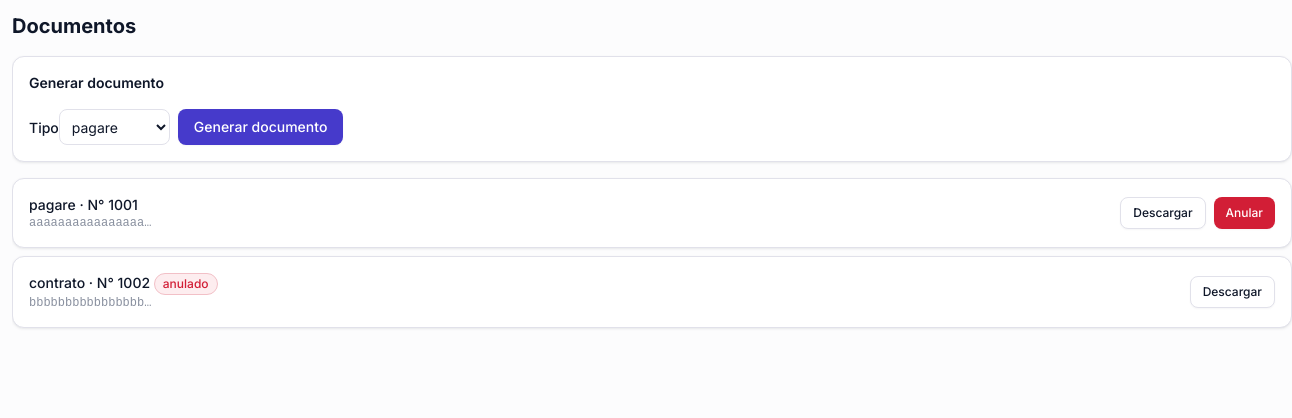
Test case: DocumentosPage › anular pide motivo y marca el documento
Expected: the text "pagare · N° 1001" is shown, x1=29 y1=195 x2=151 y2=215
Click the button "Anular". click: click(1244, 213)
box: x1=1214 y1=197 x2=1275 y2=229
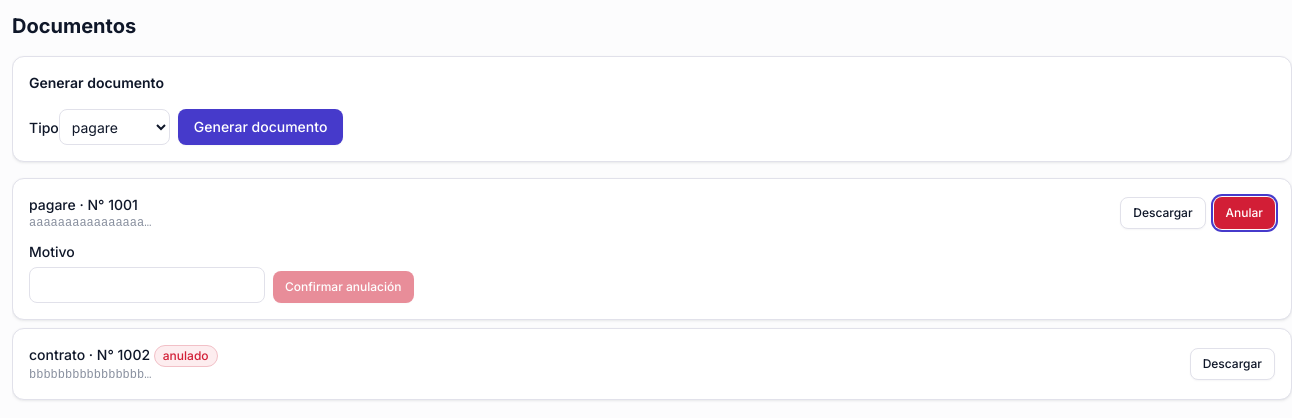
Type "error de carga" into the field labelled "Motivo". click: (147, 285)
box: x1=29 y1=267 x2=265 y2=303
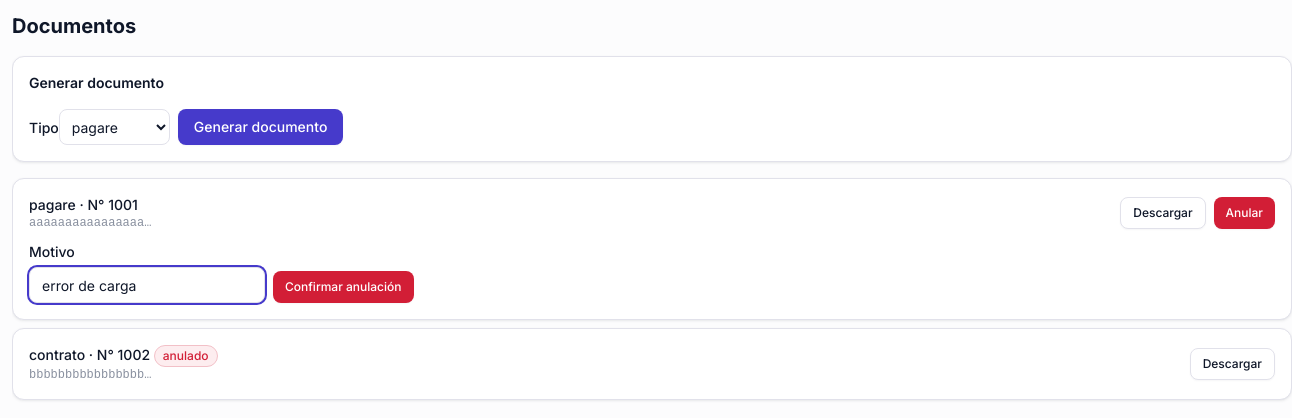
Click the button "Confirmar anulación". click: click(343, 287)
box: x1=273 y1=271 x2=414 y2=303
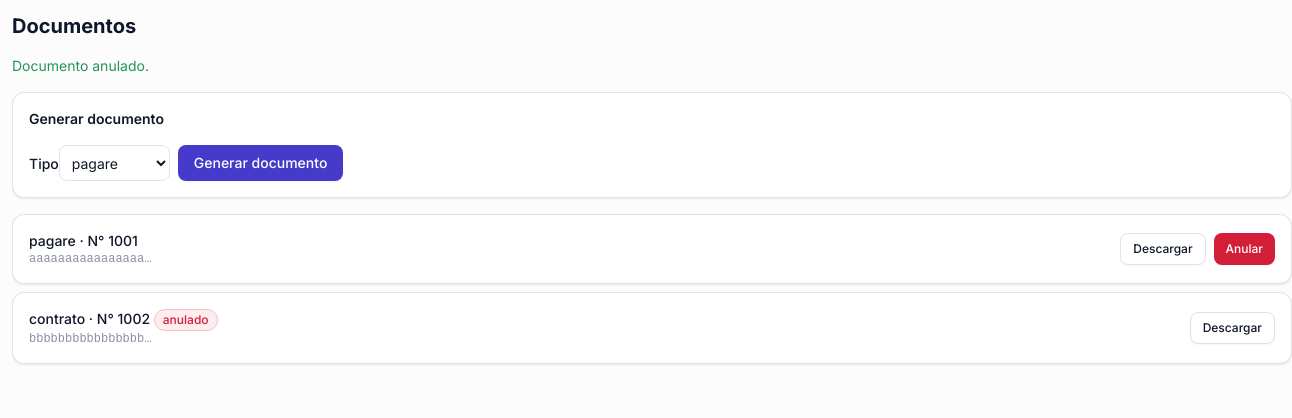
Now the text "Documento anulado." is shown, box x1=12 y1=57 x2=149 y2=74
